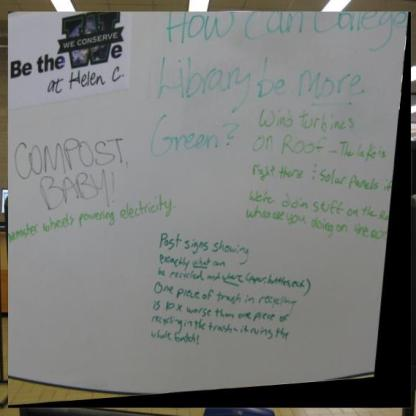Handwritten text: (156, 12, 402, 56), (149, 56, 367, 103), (37, 191, 182, 243), (9, 126, 134, 181), (139, 276, 303, 316), (237, 201, 374, 248), (243, 159, 393, 200), (139, 293, 293, 331), (238, 183, 380, 223), (141, 313, 296, 348), (242, 133, 391, 168), (22, 166, 118, 220), (149, 225, 257, 266), (147, 269, 315, 293), (142, 111, 225, 158), (252, 104, 365, 133), (143, 249, 227, 277), (135, 326, 201, 356)
Whiteboard: (5, 10, 408, 380)
